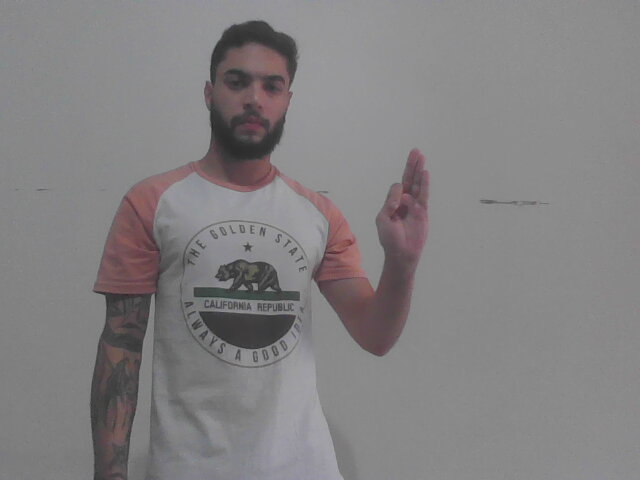t: (374, 143, 435, 260)
